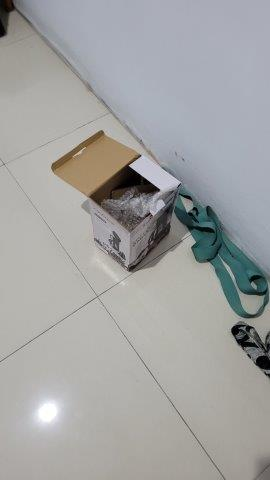kardus: (52, 131, 182, 273)
